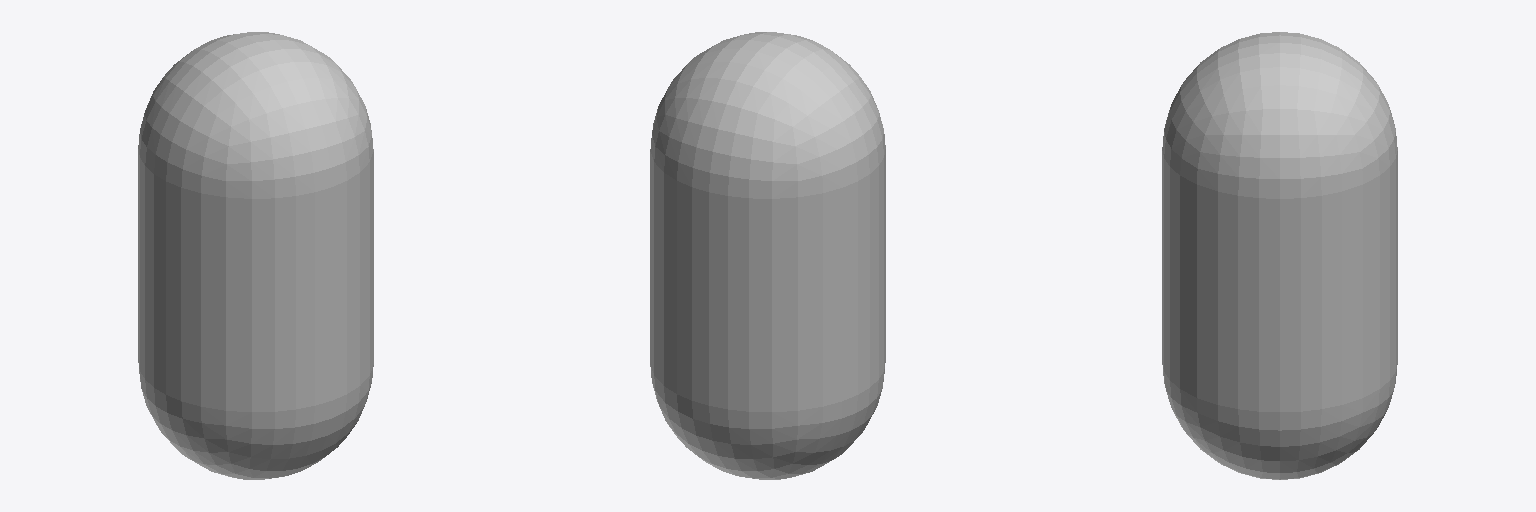
3 renders of one model, left to right at view 1: azimuth 30°, elevation 25°; view 2: azimuth 150°, elevation 25°; view 3: azimuth 270°, elevation 25°, orthographic.
Visible parts, largest first — view 1: Roundcube.001; view 2: Roundcube.001; view 3: Roundcube.001.
Boxes of the visible parts, x1,y1,x2,y2 form: Roundcube.001: [138, 32, 373, 479]; Roundcube.001: [650, 32, 885, 479]; Roundcube.001: [1162, 32, 1397, 479].
Size of the model in its own units: 1 by 2 by 1.